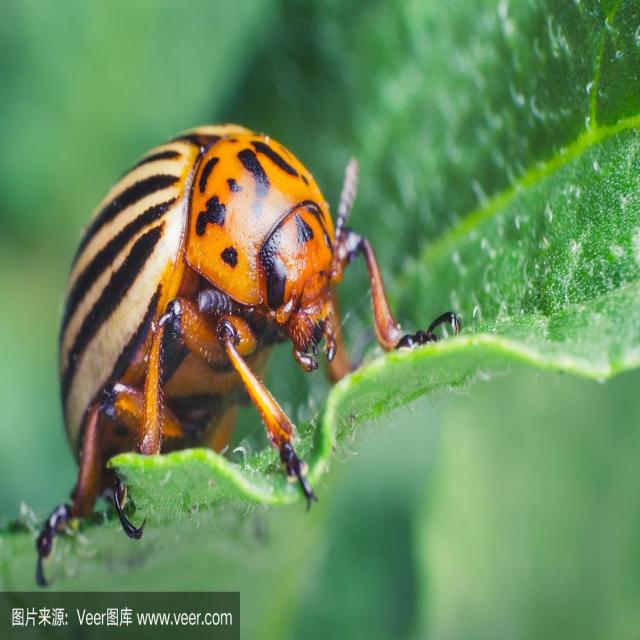ShuCaiHuaBanChong-Grown-: (48, 127, 361, 501)
